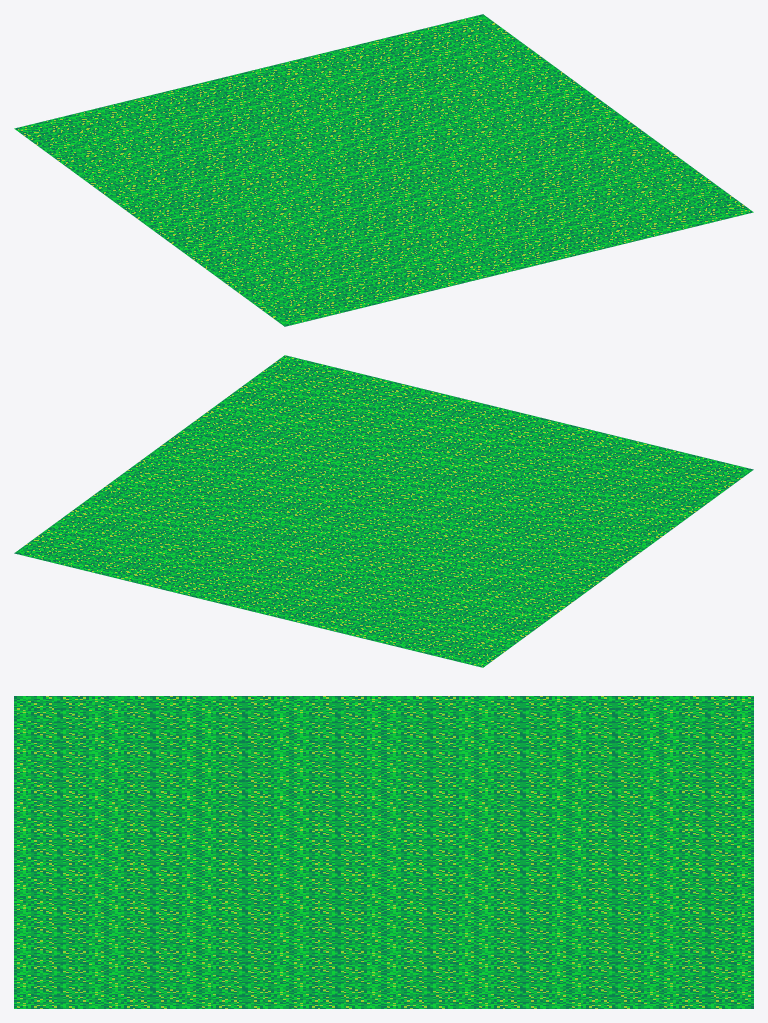
Rendered from stage.gltf.
3 renders of one model, top to bottom at view 1: azimuth 30°, elevation 25°; view 2: azimuth 150°, elevation 25°; view 3: azimuth 270°, elevation 25°, orthographic. The views are drawn at different scales.
Visible parts, largest first — view 1: Stage; view 2: Stage; view 3: Stage.
Part boxes in pixels (x1,y1,x2,y2): Stage: (14, 14, 753, 326); Stage: (14, 355, 753, 667); Stage: (14, 696, 753, 1008).
Size of the model in its own units: 4 by 0 by 4.
1 material, 1 textured.
